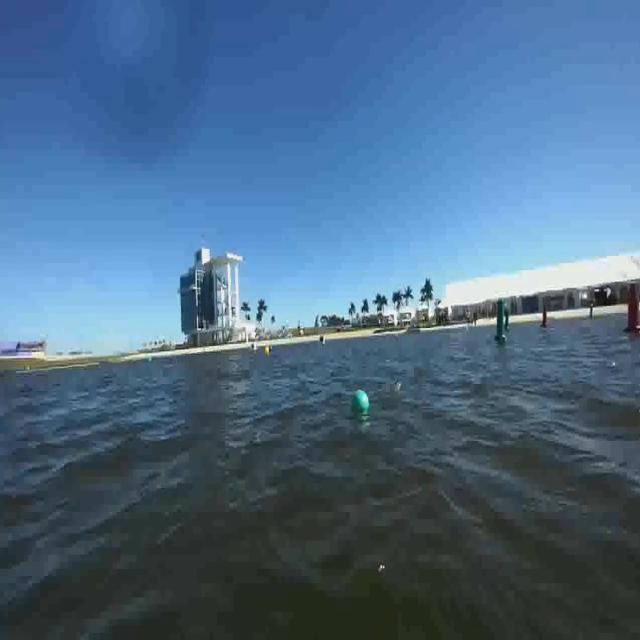green-buoy: (352, 392, 368, 417)
green-column-buoy: (494, 300, 508, 345), (505, 305, 511, 336)
red-column-buoy: (624, 284, 640, 336), (540, 307, 548, 329)
yellow-buoy: (266, 345, 272, 357)
